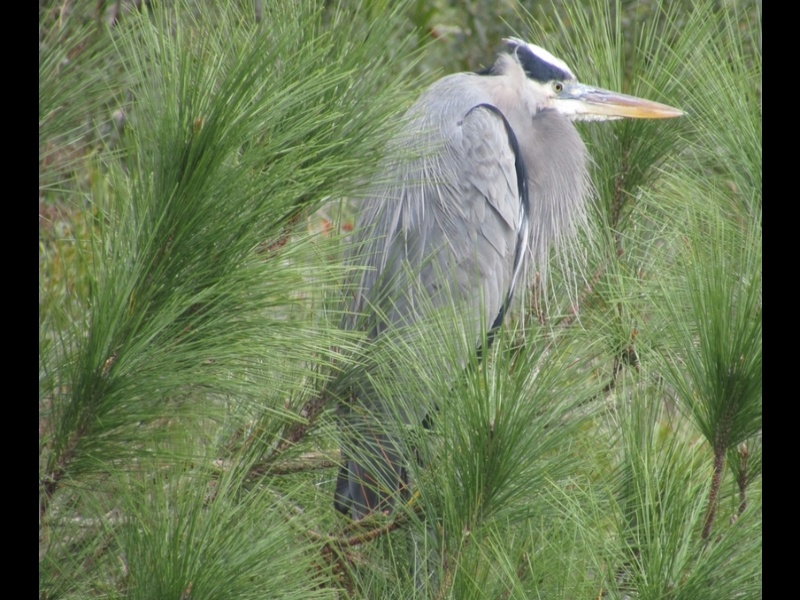heron: (326, 35, 687, 517)
